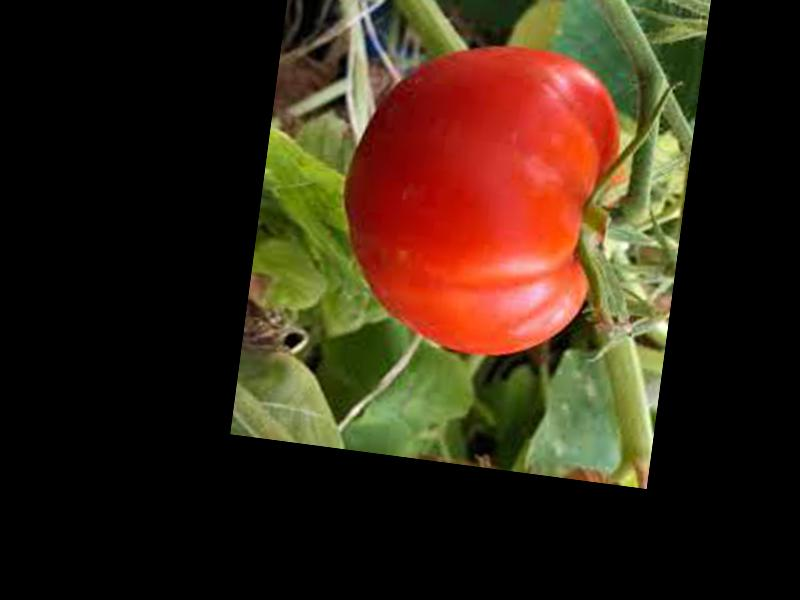Tomato: (328, 24, 630, 369)
